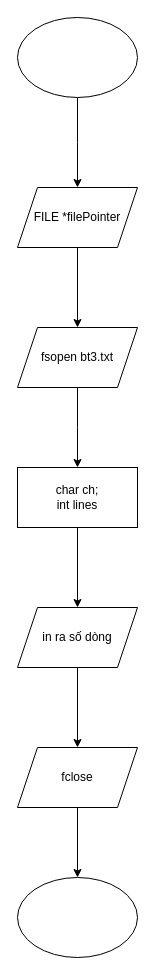
Some shapes in this 155 by 975 pixel diagram are drawn without their labels. Here are the shapes that lost their labels. From the top down, the box of each, then its label:
(16, 16, 138, 98): start
(16, 876, 138, 958): End
